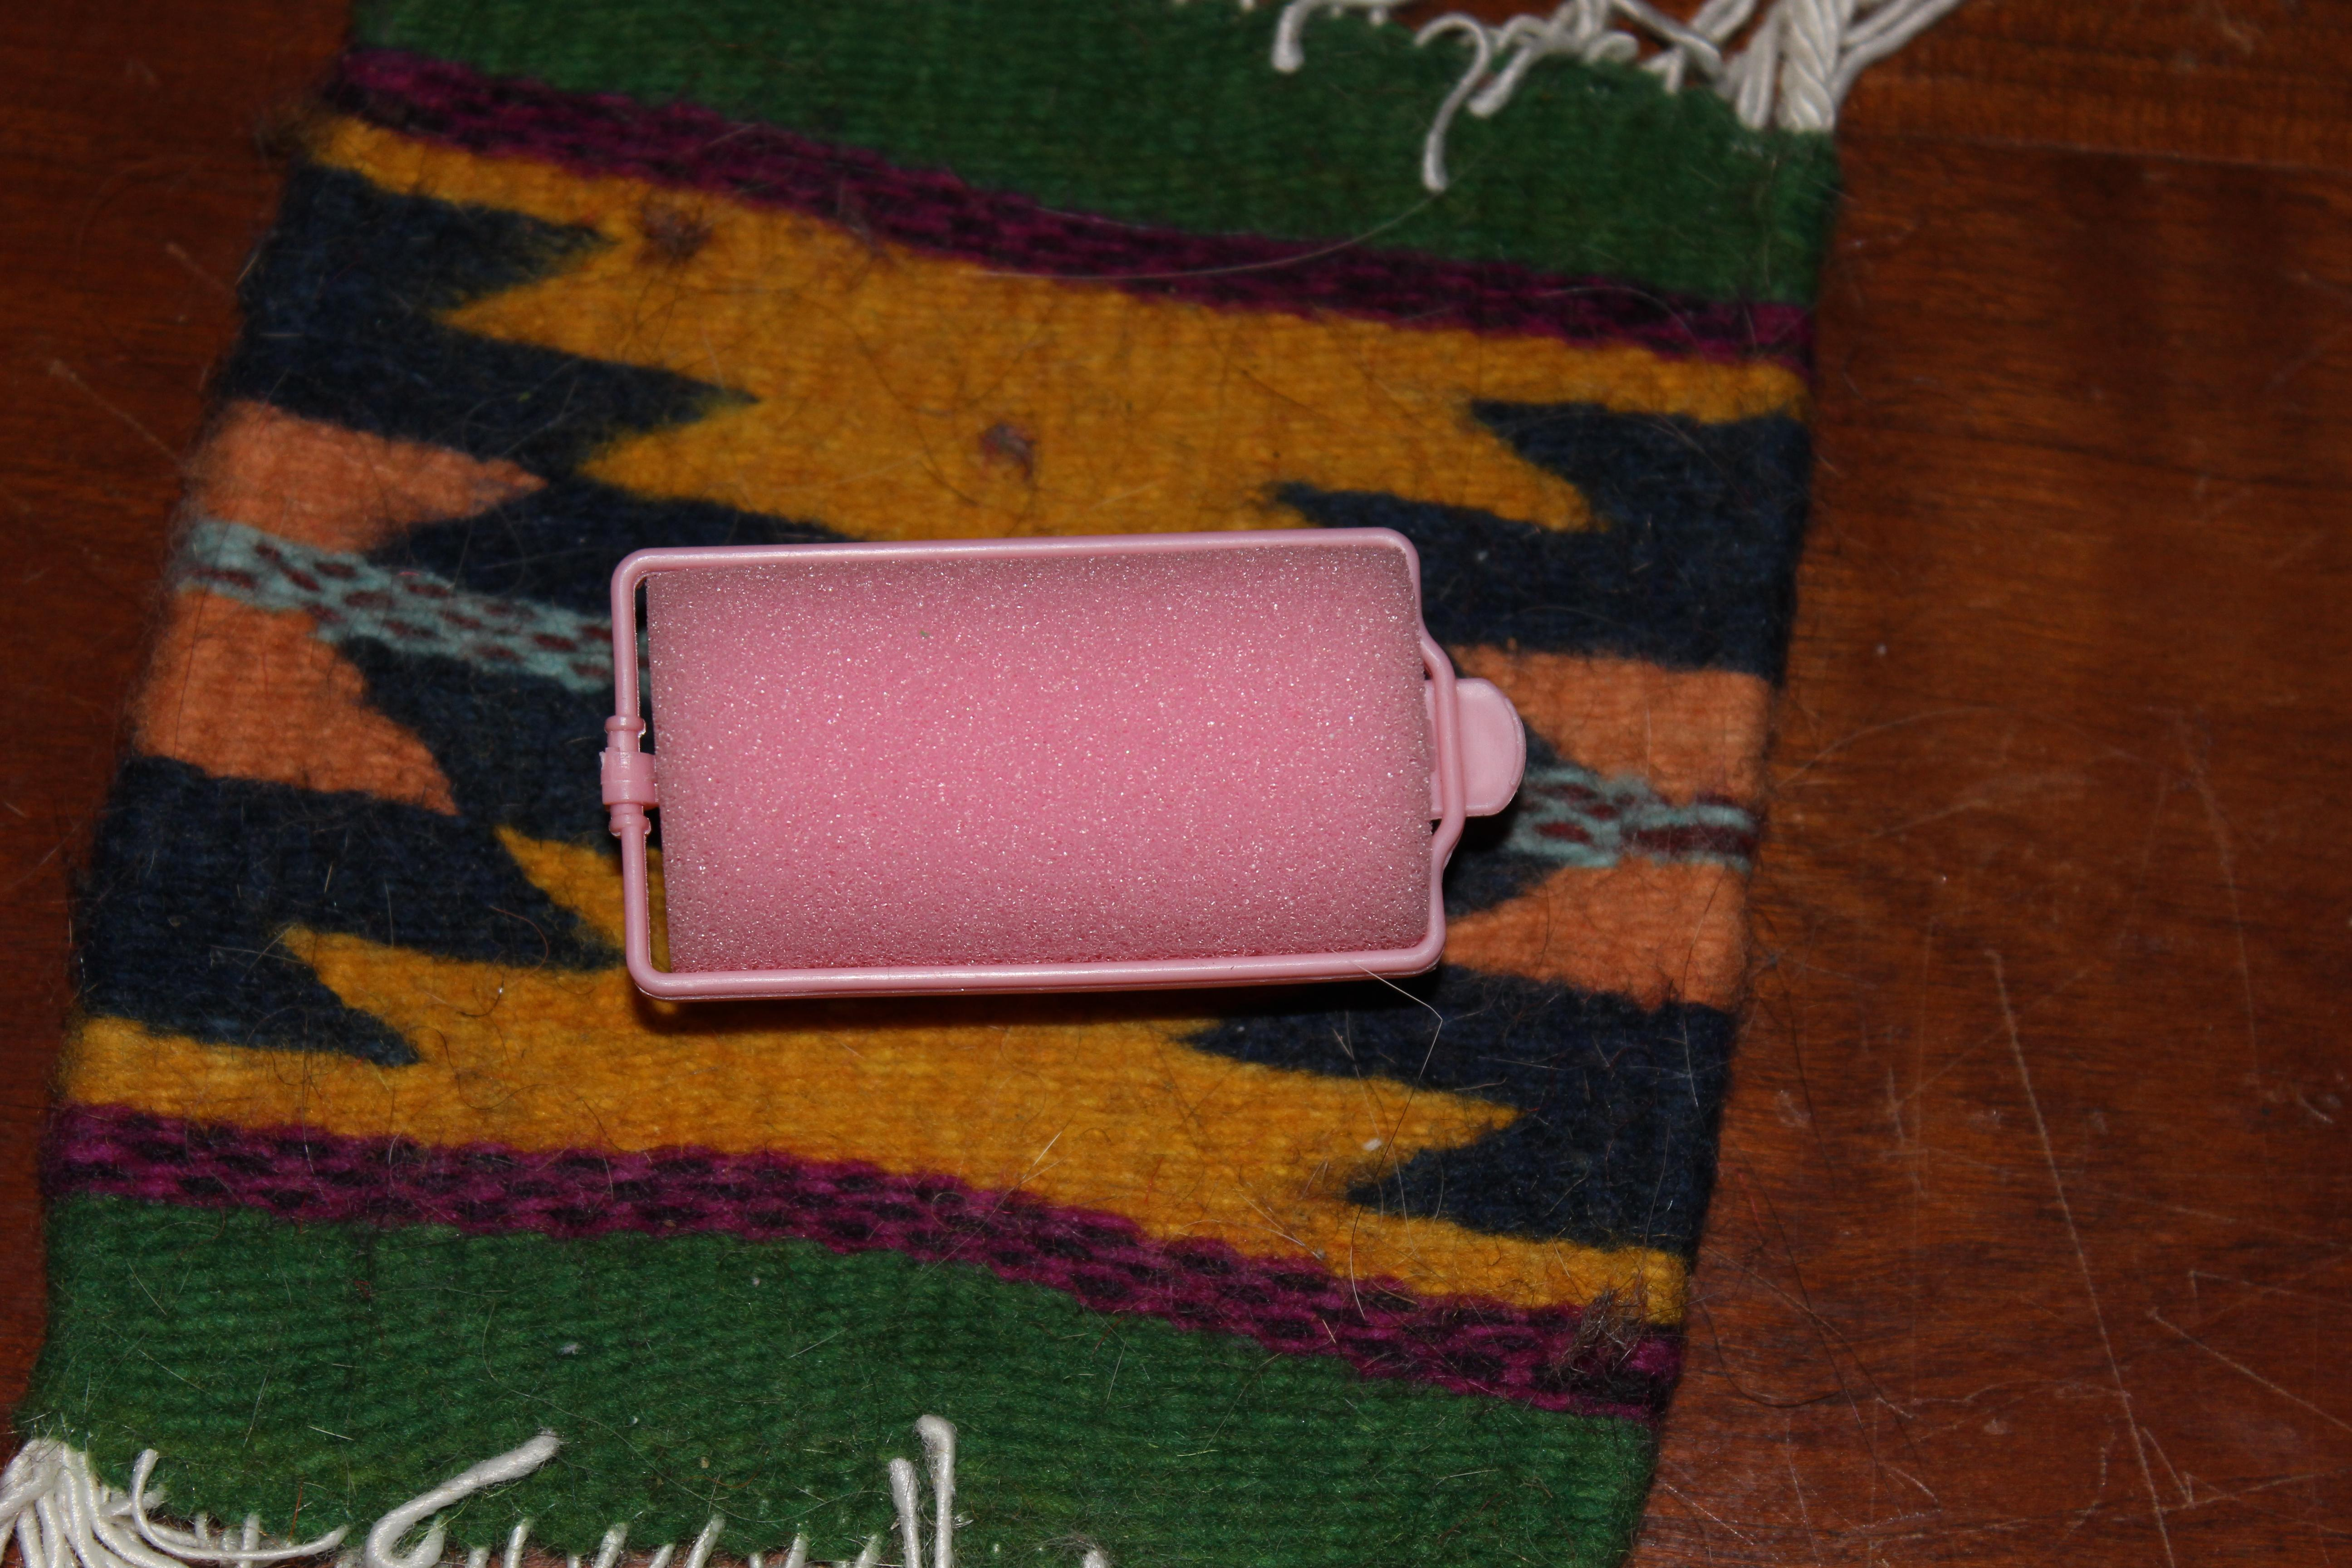hairRoller: (551, 494, 1585, 1076)
